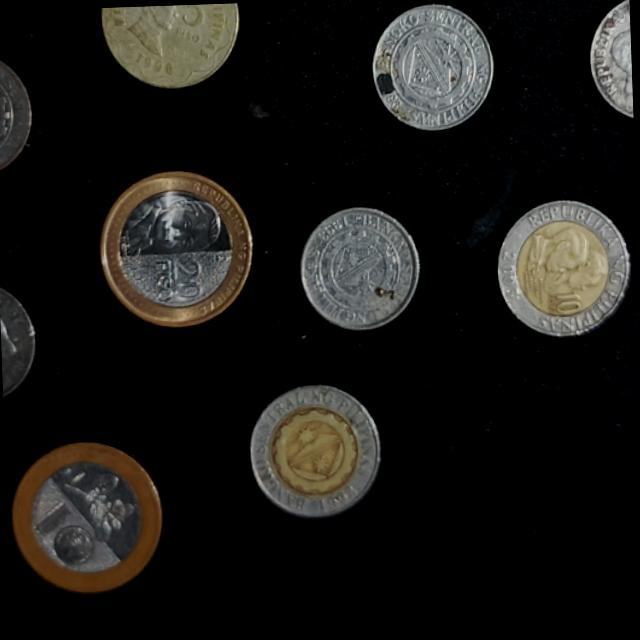10_peso: (498, 200, 628, 335), (249, 384, 379, 516)
1_peso: (373, 3, 493, 129), (301, 209, 417, 328)
20_peso: (99, 170, 251, 325), (12, 443, 161, 591)
5_peso: (102, 3, 237, 87)
